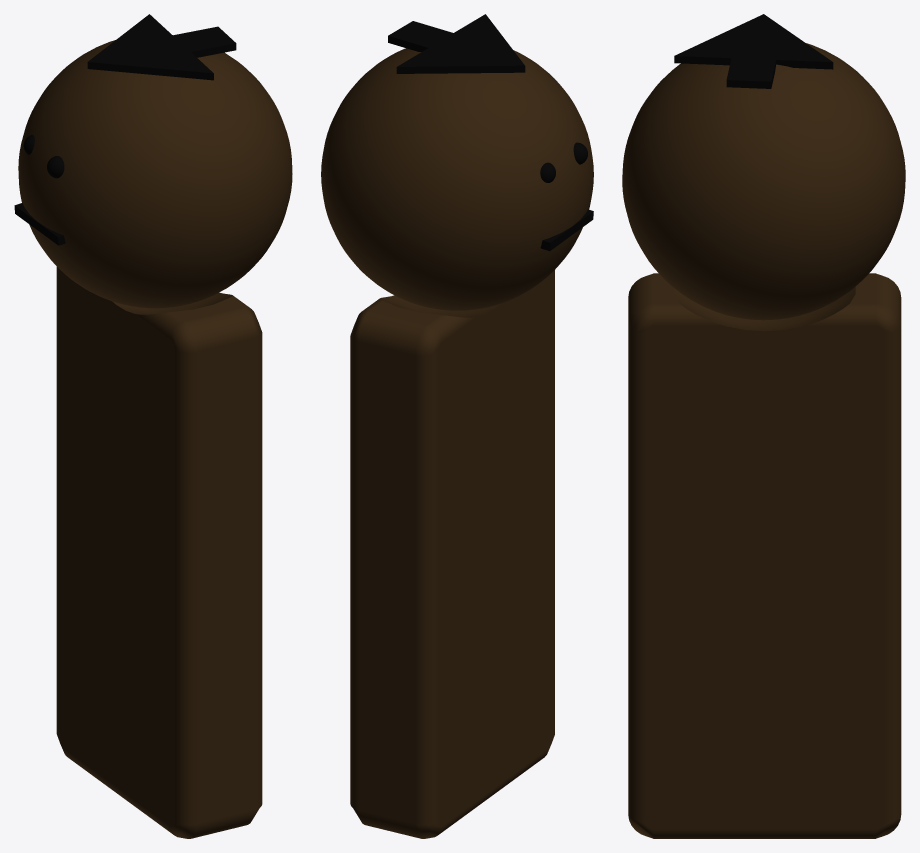
Rendered from brown_poker.obj.
3 renders of one model, left to right at view 1: azimuth 30°, elevation 25°; view 2: azimuth 150°, elevation 25°; view 3: azimuth 270°, elevation 25°, orthographic. The views are drawn at different scales.
Visible parts, largest first — view 1: 1_Curve.002_Curve.002, 5.002_Curve.002_Curve.002; view 2: 1_Curve.002_Curve.002, 5.002_Curve.002_Curve.002; view 3: 1_Curve.002_Curve.002, 5.002_Curve.002_Curve.002.
Boxes of the visible parts, bbox=[...] form: 1_Curve.002_Curve.002: bbox=[18, 40, 292, 838]; 5.002_Curve.002_Curve.002: bbox=[14, 14, 236, 245]; 1_Curve.002_Curve.002: bbox=[321, 48, 593, 838]; 5.002_Curve.002_Curve.002: bbox=[388, 14, 593, 251]; 1_Curve.002_Curve.002: bbox=[622, 43, 905, 838]; 5.002_Curve.002_Curve.002: bbox=[674, 14, 833, 88].
Bounding box in the file's own units: 0.1662 × 0.4993 × 0.1661.
